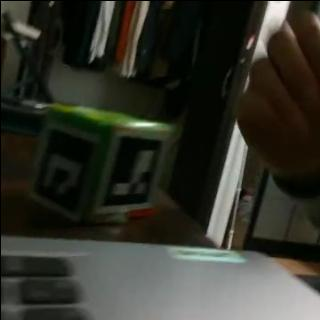armor: (28, 124, 102, 215), (96, 131, 165, 209)
robot: (28, 101, 176, 225)
